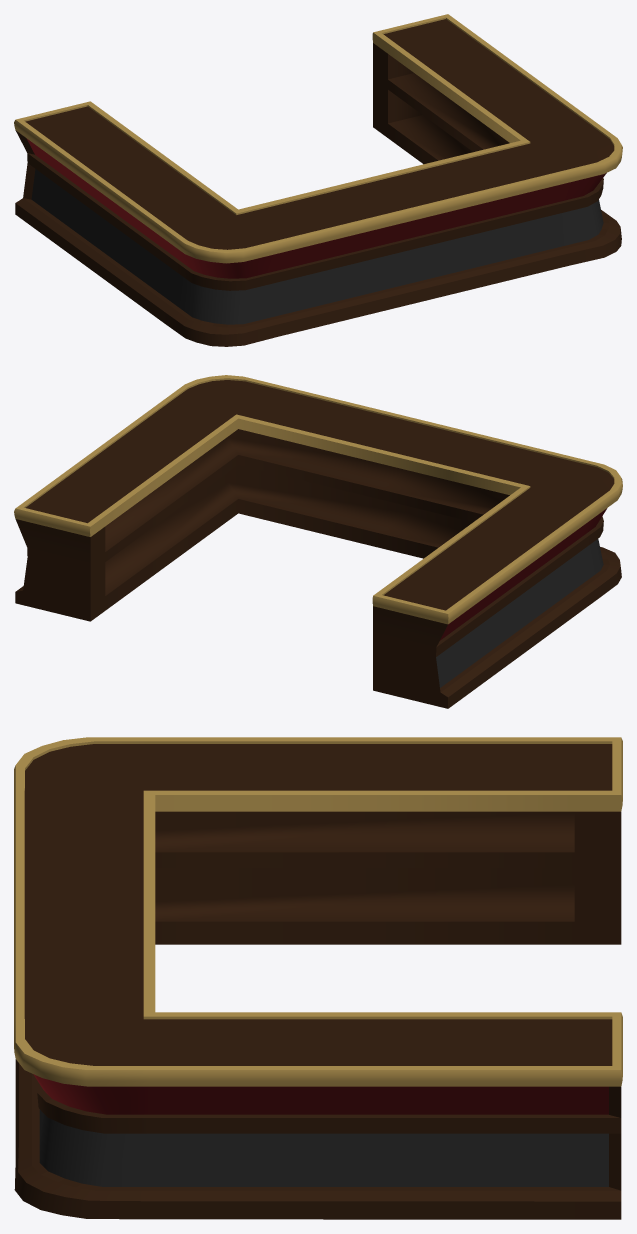
The model's file is LoungeBarUV.fbx.
3 views of the same model, one above another, from view 1: azimuth 30°, elevation 25°; view 2: azimuth 150°, elevation 25°; view 3: azimuth 270°, elevation 25° (orthographic). The views are drawn at different scales.
Visible parts, largest first — view 1: bar; view 2: bar; view 3: bar.
Boxes of the visible parts, <box> form: bar: <box>14,14,622,346</box>; bar: <box>14,375,622,708</box>; bar: <box>14,737,622,1219</box>.
Bounding box in the file's own units: 690 × 144 × 531.
